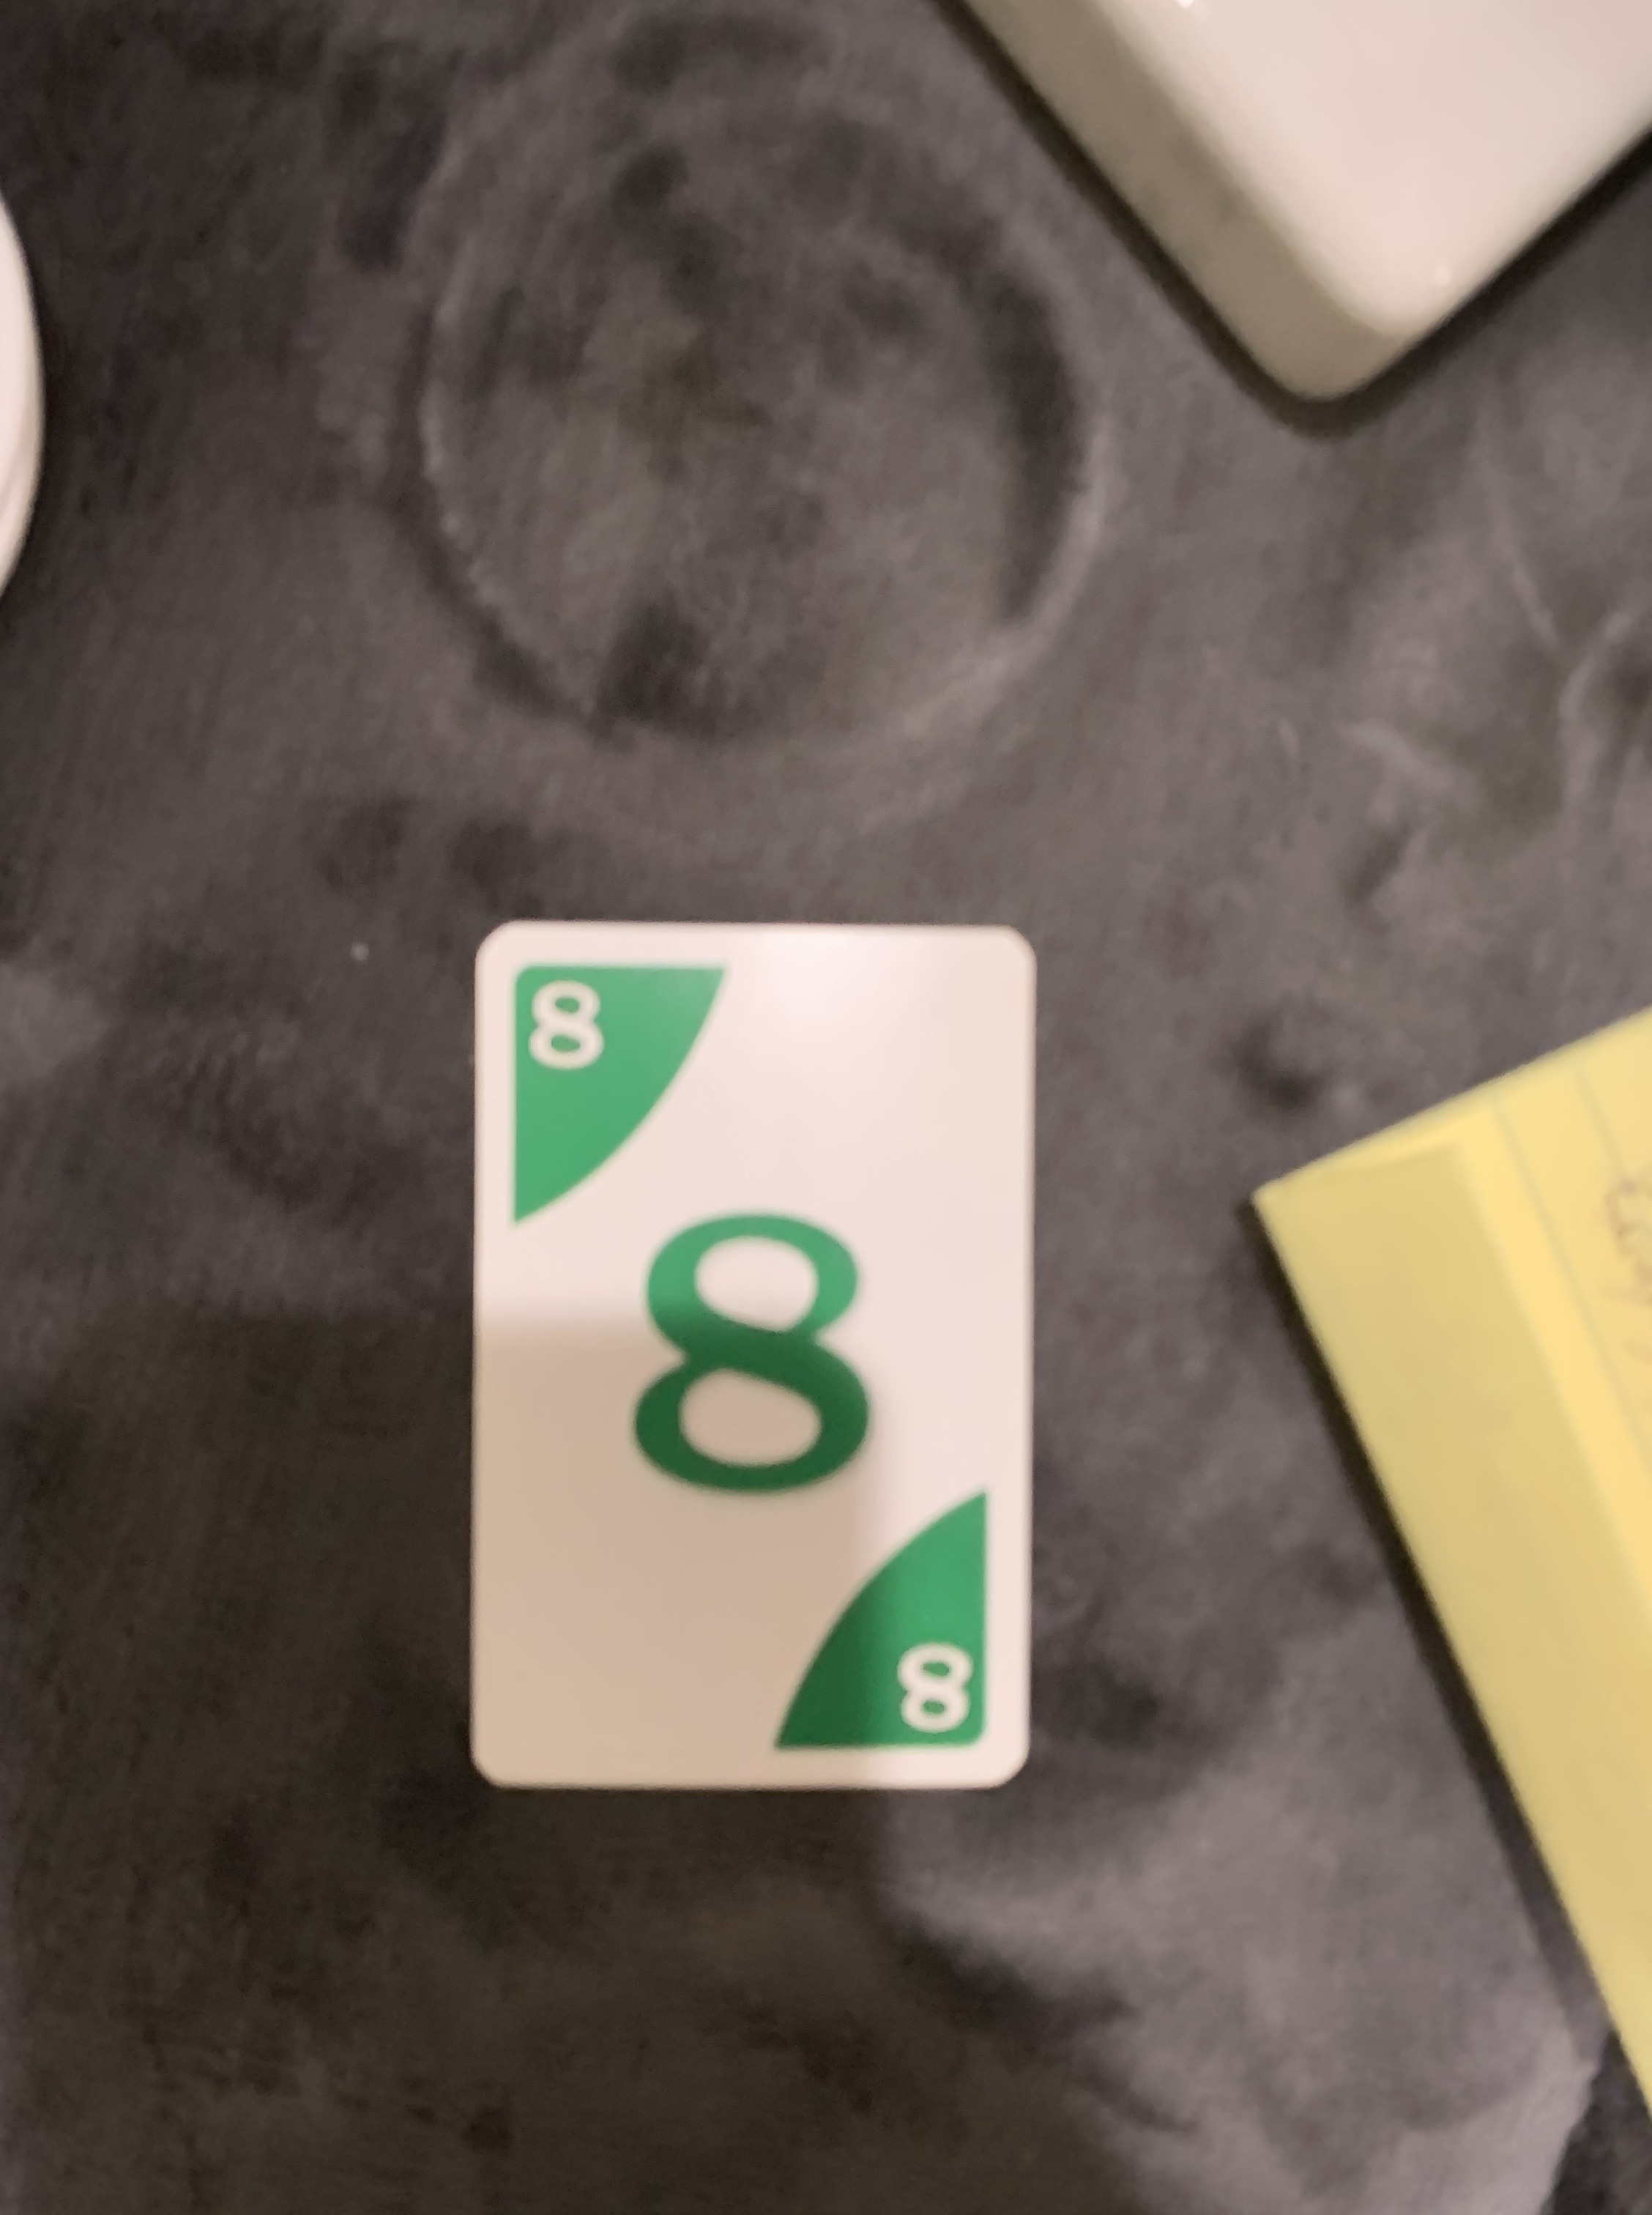eight: (449, 908, 1052, 1802)
